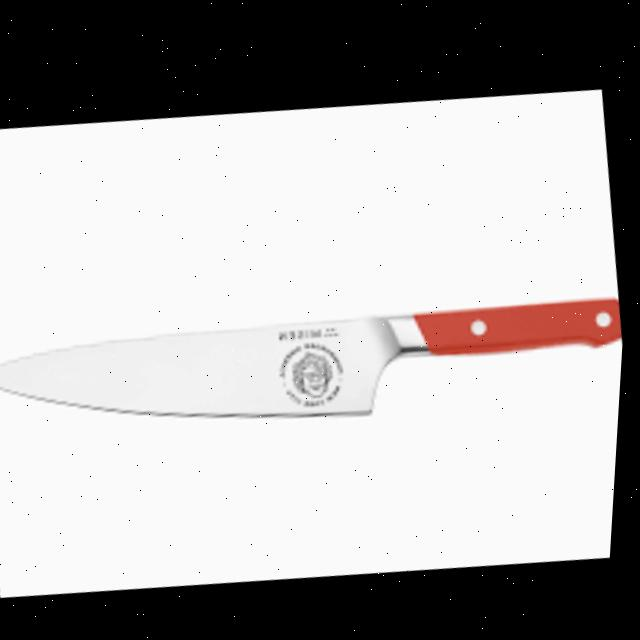Knife: (0, 248, 628, 477)
